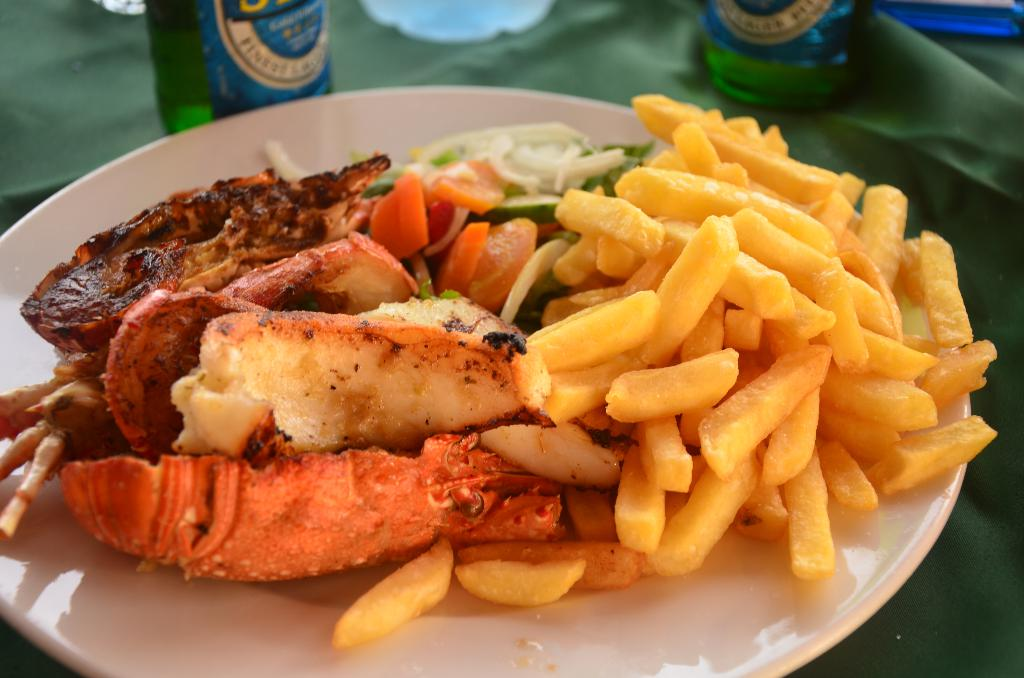French fries: (336, 80, 996, 637)
